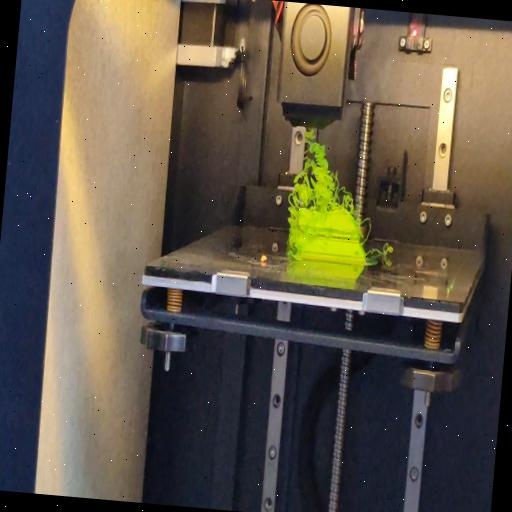spaghetti: (288, 124, 363, 214), (284, 206, 302, 262), (366, 239, 396, 260), (360, 217, 373, 246)
